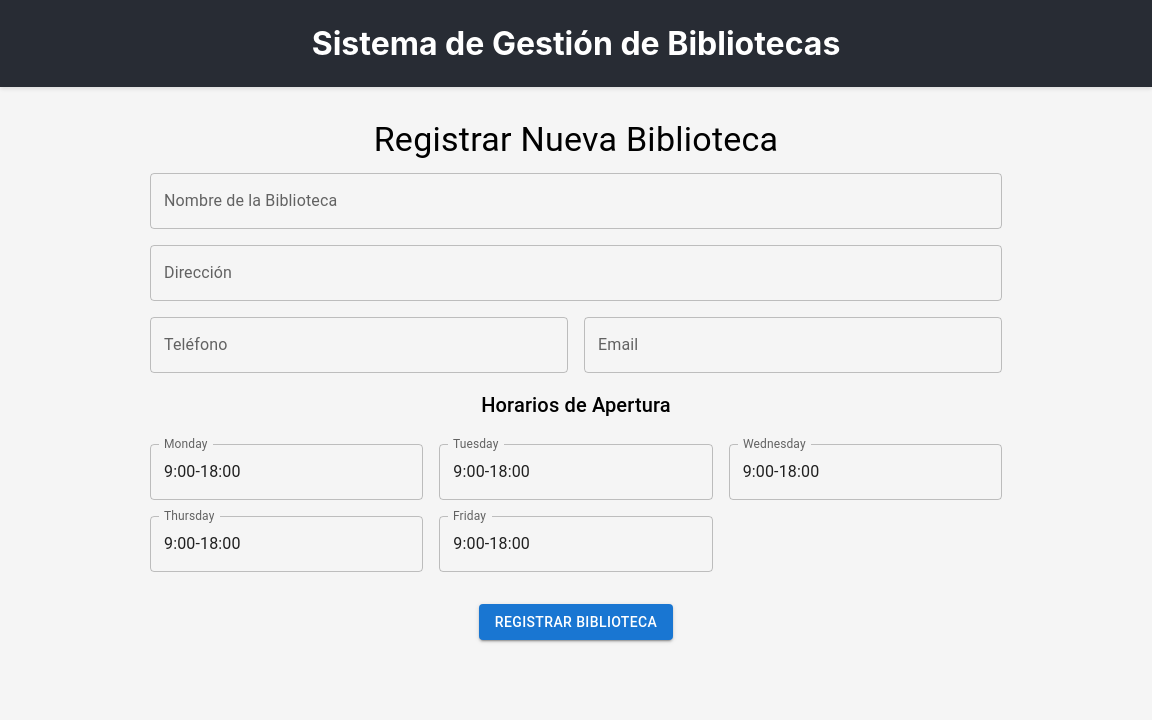
Test: Library Registration Flow › should show validation errors for empty fields
// Intentar enviar el formulario vacío
Click the submit button.
click(577, 623)  # box 479,604 -> 674,641
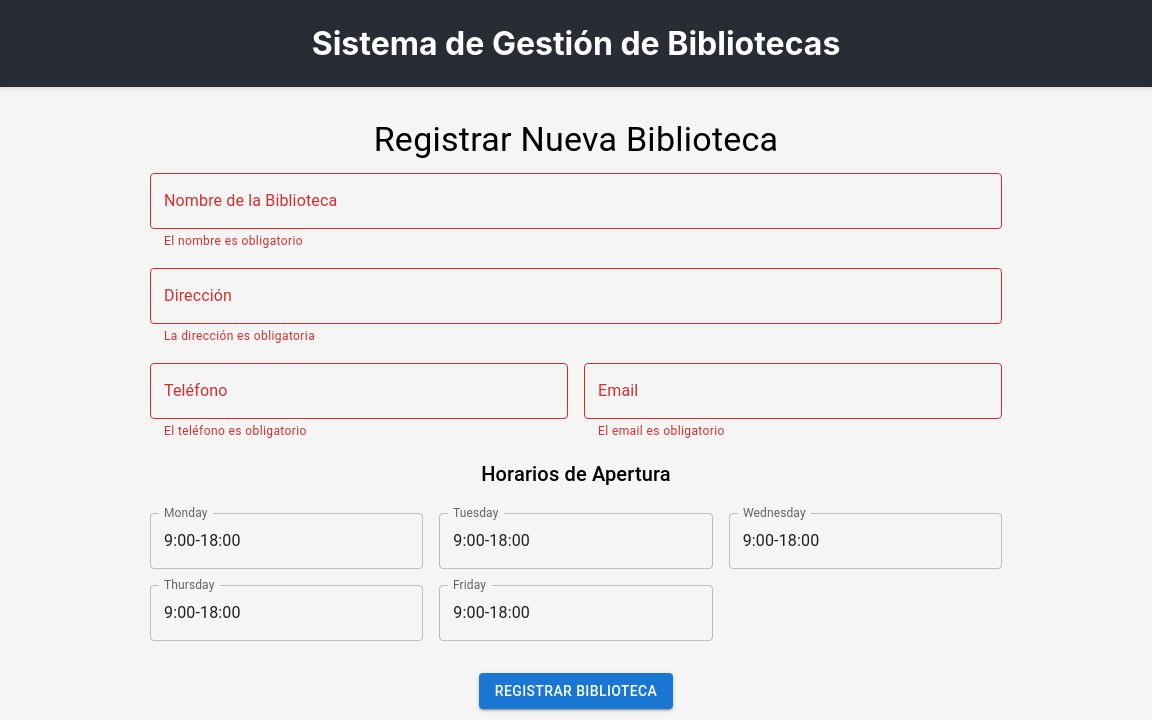
Check: the text "El nombre es obligatorio" is shown, box 164,234 -> 303,248
Check: the text "La dirección es obligatoria" is shown, box 164,329 -> 315,343
Check: the text "El teléfono es obligatorio" is shown, box 164,424 -> 307,438
